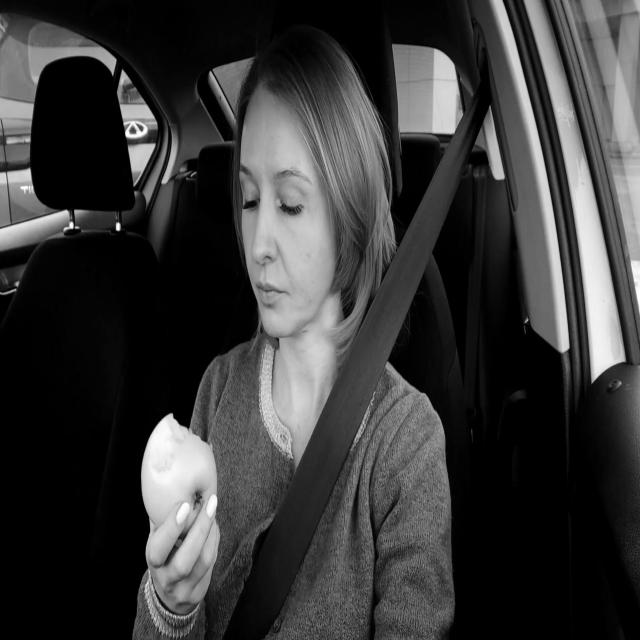Eating: (139, 404, 221, 543)
Seatbelt: (222, 77, 491, 640)
